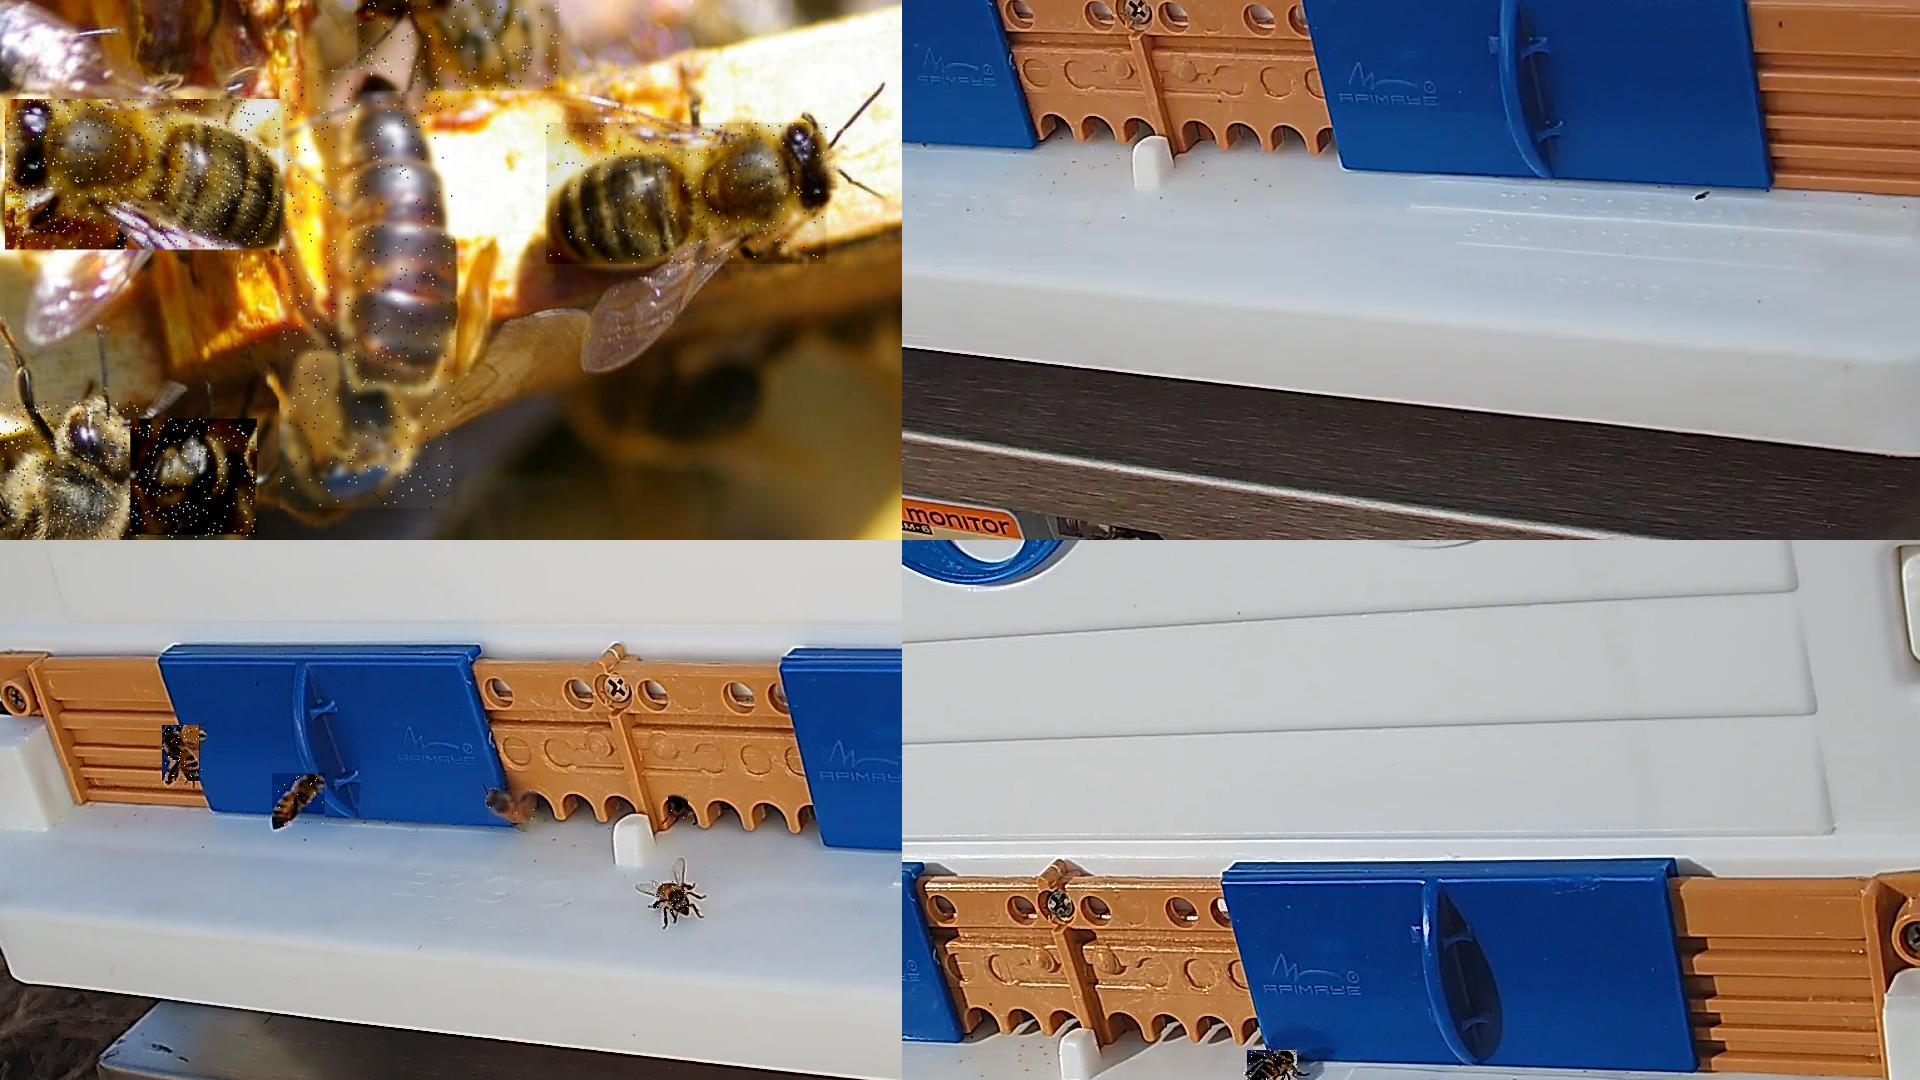bee: (5, 99, 290, 251), (546, 123, 828, 265), (0, 401, 141, 539), (357, 0, 562, 94), (131, 419, 258, 539), (272, 774, 326, 827), (164, 725, 204, 782), (488, 790, 538, 824), (1247, 1050, 1299, 1079), (653, 881, 690, 914), (669, 795, 690, 822)
queen: (281, 71, 456, 510)
